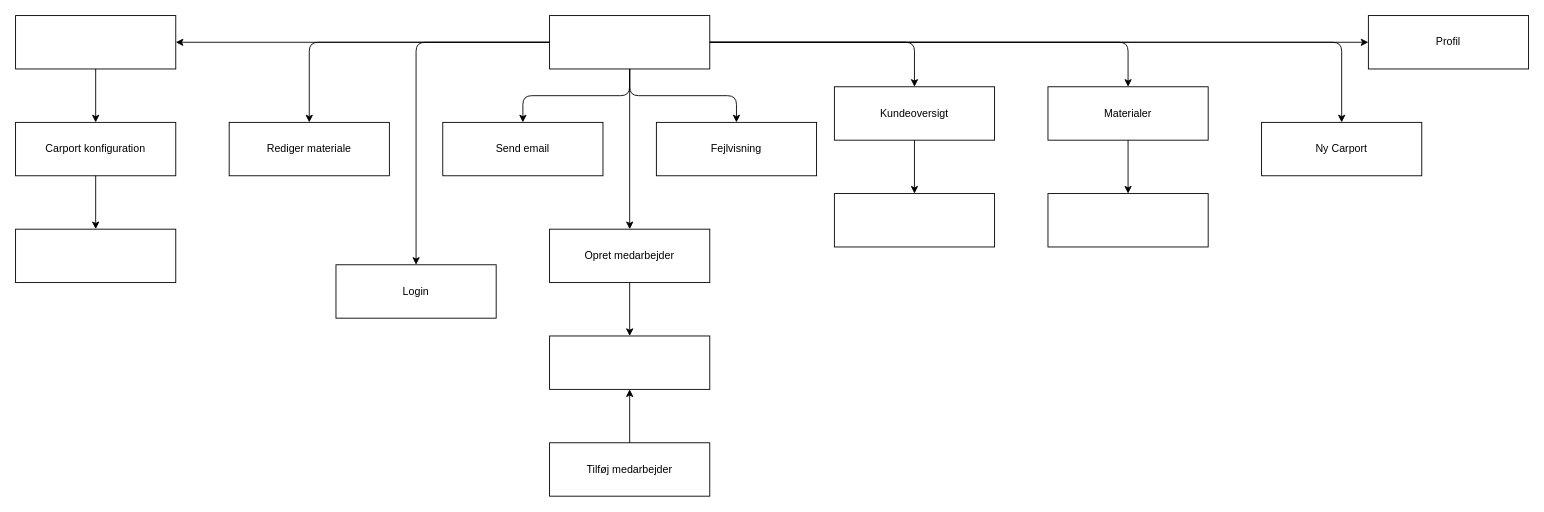
Some shapes in this 1544 by 512 pixel diagram are drawn without their labels. The shapes that lost their labels are listed below. From the top down, each one's box as (x1, y1, x2, y2) in pixels, then its label:
(15, 15, 176, 69): Ordredetaljer
(549, 15, 710, 69): Dashboard
(833, 193, 995, 247): Kundeprofil
(1047, 193, 1208, 247): Tilføj materiale
(15, 228, 176, 283): Stykliste
(549, 335, 710, 389): Rediger medarbejder
